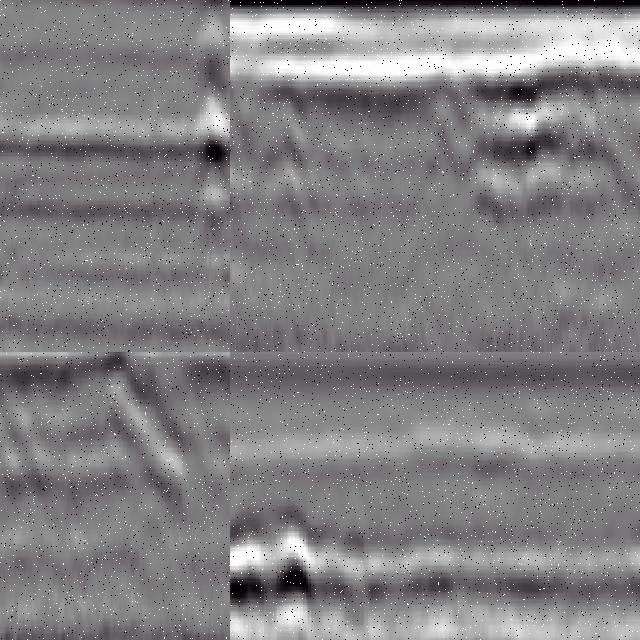crack: (192, 1, 231, 276)
loose: (443, 21, 640, 215), (1, 353, 195, 505), (231, 504, 364, 637), (231, 42, 324, 219)
